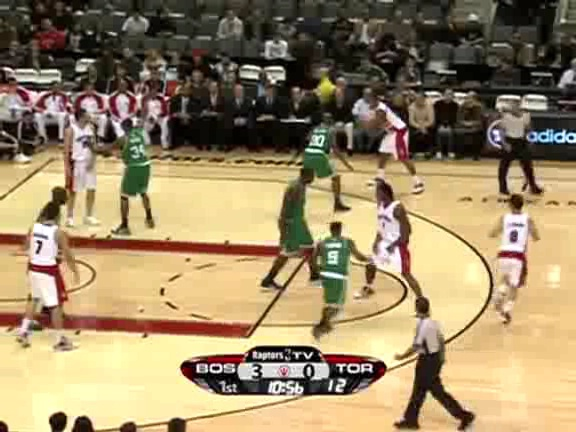person: (320, 230, 354, 311), (319, 230, 353, 311), (321, 230, 355, 311), (320, 229, 354, 310), (320, 231, 354, 312)
target_negative: (232, 38, 441, 356), (205, 122, 432, 400), (385, 47, 516, 272), (54, 287, 434, 347), (223, 372, 348, 395), (336, 123, 395, 130)
